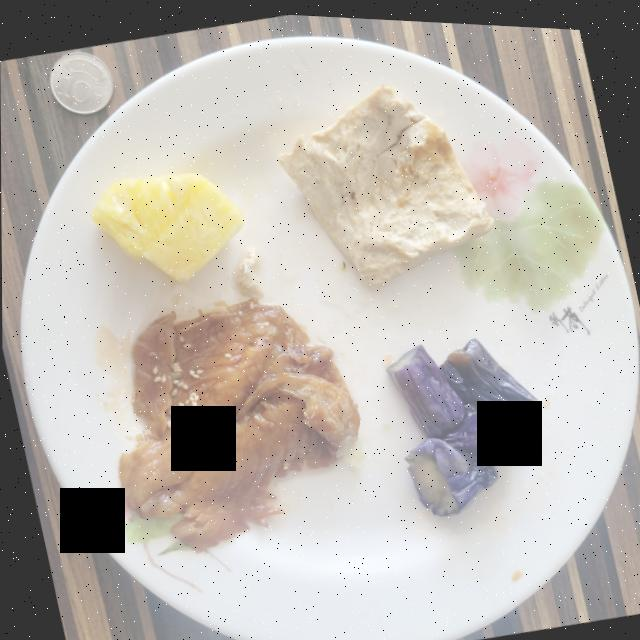Kabayaki sea bream fillet: (117, 296, 358, 549)
coin: (48, 51, 112, 113)
pineapple: (90, 171, 242, 281)
